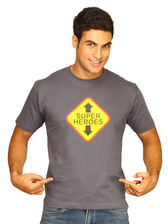clothoes: (13, 60, 156, 209)
